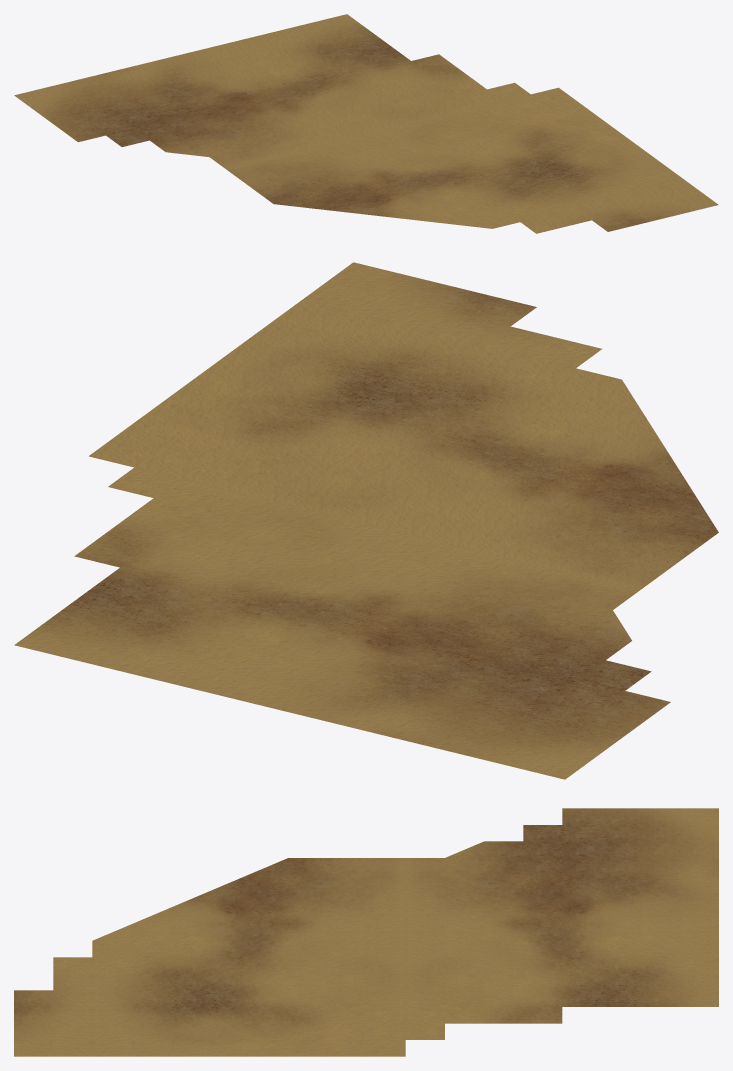
Rendered from Redrock_Canyon_3F.FBX.
The picture shows the model from 3 angles, top to bottom: view 1: azimuth 30°, elevation 25°; view 2: azimuth 150°, elevation 25°; view 3: azimuth 270°, elevation 25°; orthographic projection. The views are drawn at different scales.
Visible parts, largest first — view 1: Redrock_Canyon_3F; view 2: Redrock_Canyon_3F; view 3: Redrock_Canyon_3F.
Boxes of the visible parts, left/top/right/bottom form: Redrock_Canyon_3F: left=14, top=14, right=718, bottom=233; Redrock_Canyon_3F: left=14, top=262, right=718, bottom=779; Redrock_Canyon_3F: left=14, top=808, right=718, bottom=1056.
Size of the model in its own units: 30 by 3.35e-05 by 36.
